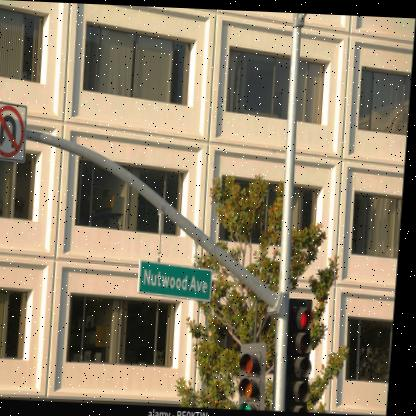No U-turn: (0, 94, 32, 160)
